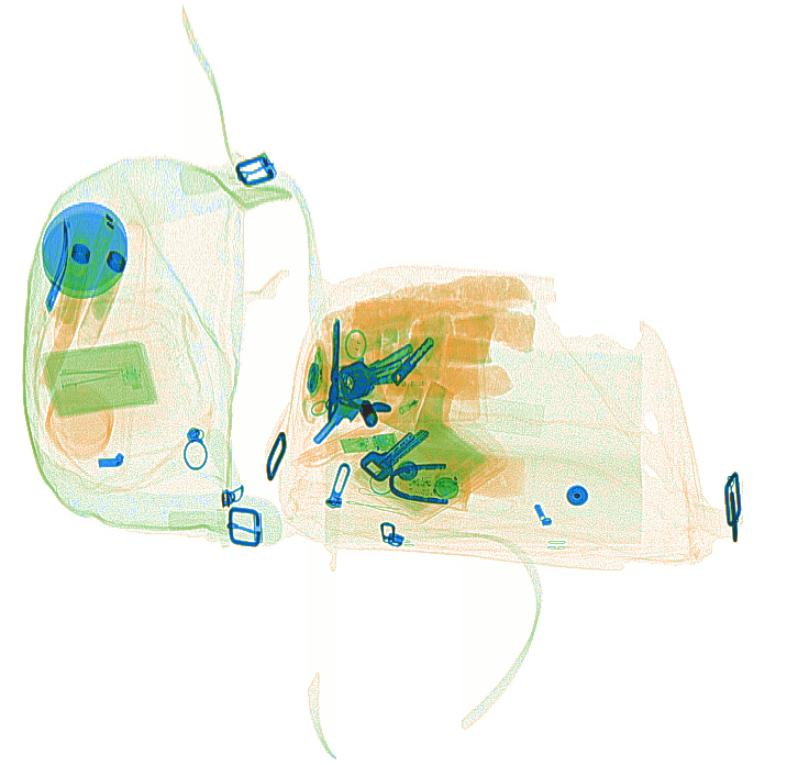USBFlashDisk: (335, 433, 400, 455)
